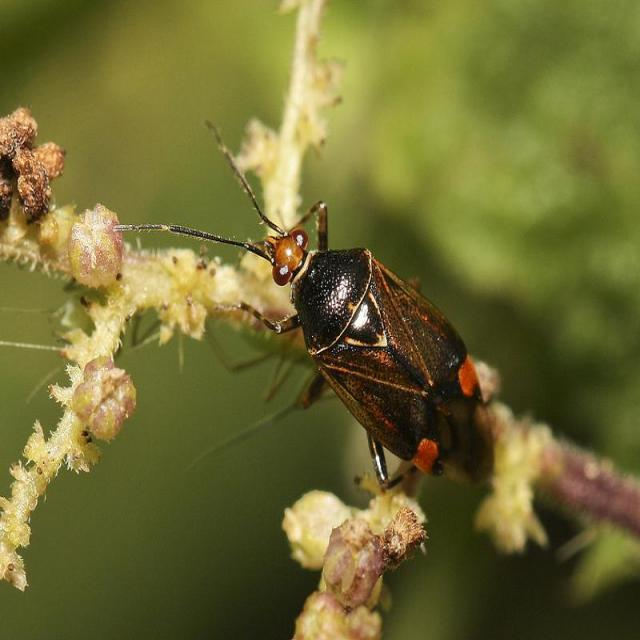Miridae-Adult-: (108, 109, 502, 497)
